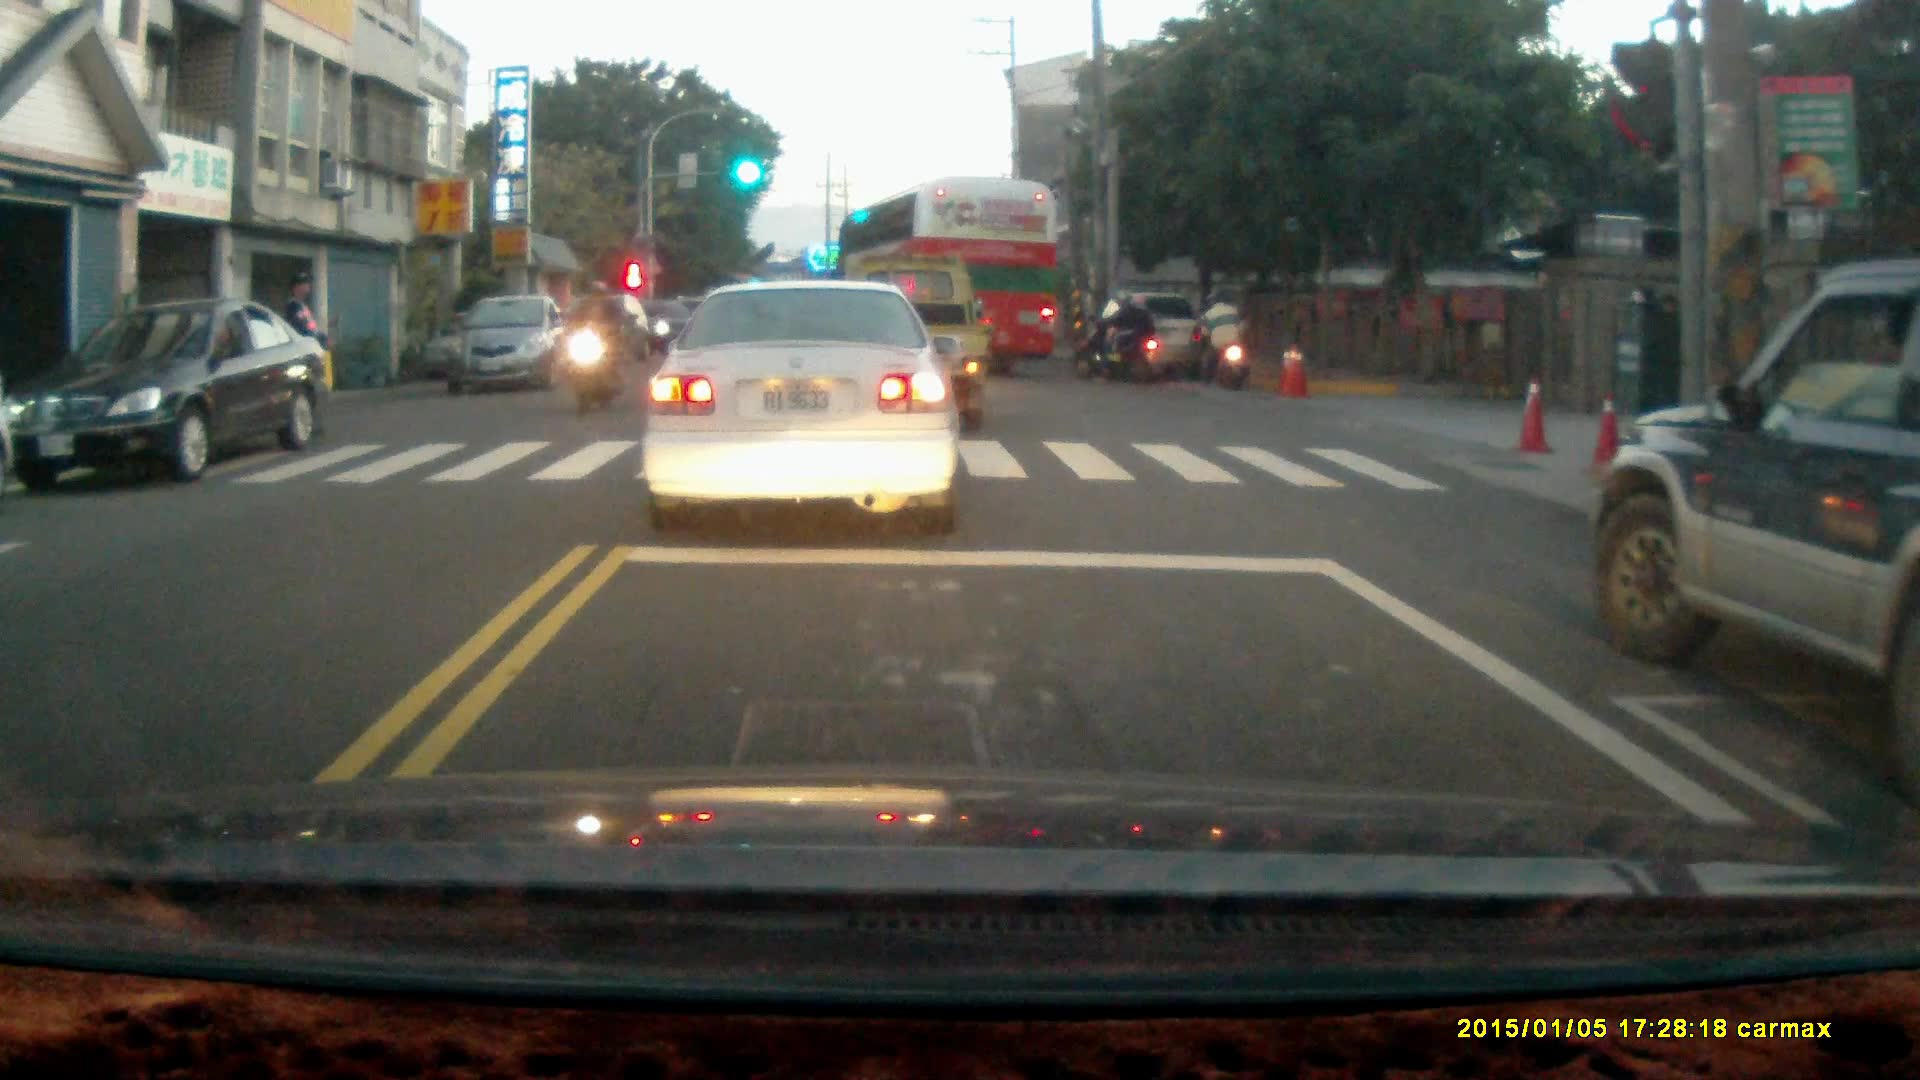pedestrian: (281, 274, 327, 432)
rider: (563, 277, 626, 414), (1078, 288, 1153, 382), (1195, 288, 1251, 393)
vehicle: (1599, 259, 1920, 816), (643, 274, 961, 533), (10, 299, 329, 495), (836, 172, 1064, 381), (434, 292, 582, 394), (1093, 290, 1211, 381), (558, 298, 652, 373)
